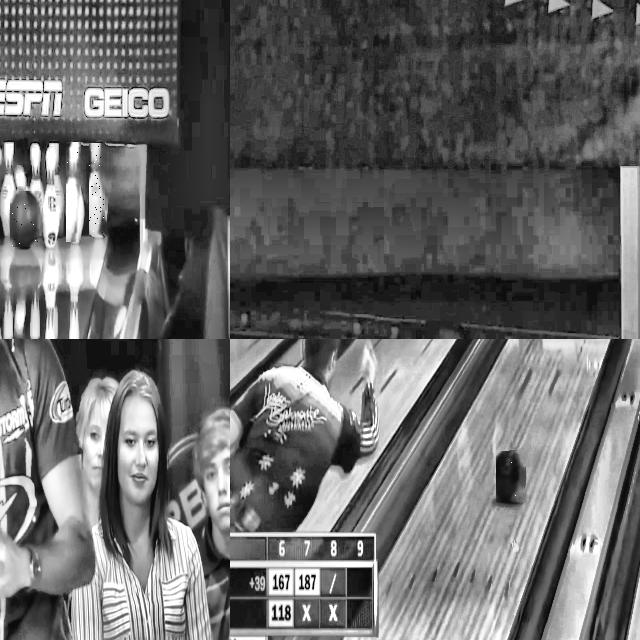bowling-ball: (11, 192, 39, 246), (497, 451, 522, 501)
bowling-pins: (66, 143, 81, 240), (90, 144, 104, 234)
